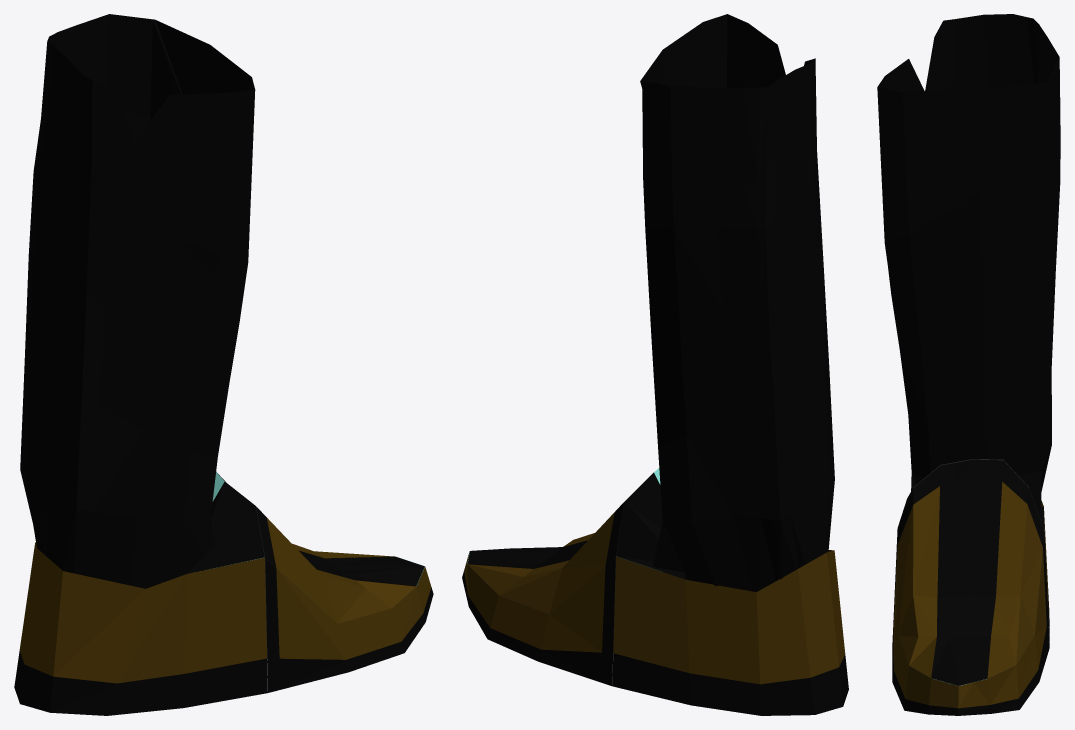
The model's file is Shoe2.fbx.
The picture shows the model from 3 angles, left to right: view 1: azimuth 30°, elevation 25°; view 2: azimuth 150°, elevation 25°; view 3: azimuth 270°, elevation 25°; orthographic projection. The views are drawn at different scales.
Visible parts, largest first — view 1: pCube184; view 2: pCube184; view 3: pCube184.
Part boxes in pixels (bbox=[...]): pCube184: bbox=[14, 14, 433, 715]; pCube184: bbox=[462, 14, 848, 715]; pCube184: bbox=[877, 14, 1060, 715].
Bounding box in the file's own units: 5.83 × 8.85 × 2.58.
